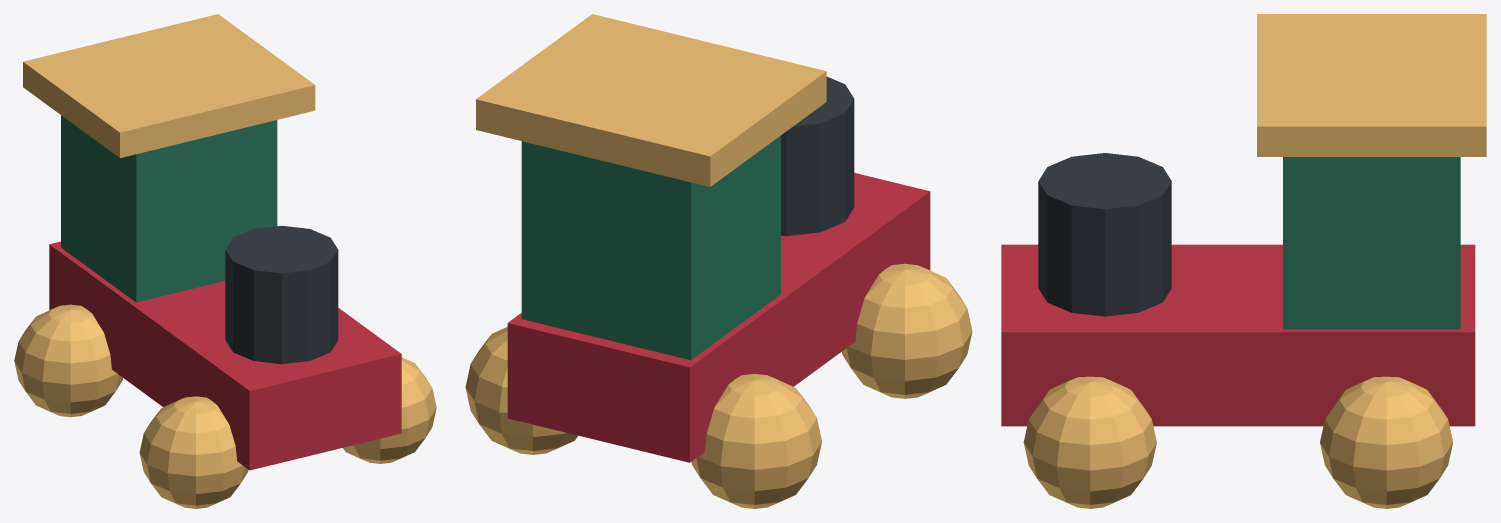
Rendered from three-d-christmas-village-christmas-village-toy-train-6b21d968.glb.
3 renders of one model, left to right at view 1: azimuth 30°, elevation 25°; view 2: azimuth 150°, elevation 25°; view 3: azimuth 270°, elevation 25°, orthographic. The views are drawn at different scales.
Visible parts, largest first — view 1: toy-train; view 2: toy-train; view 3: toy-train.
Boxes of the visible parts, x1,y1,x2,y2 form: toy-train: [14, 14, 436, 508]; toy-train: [465, 14, 972, 508]; toy-train: [1001, 14, 1486, 508].
Size of the model in its own units: 0.52 by 0.565 by 0.655.
